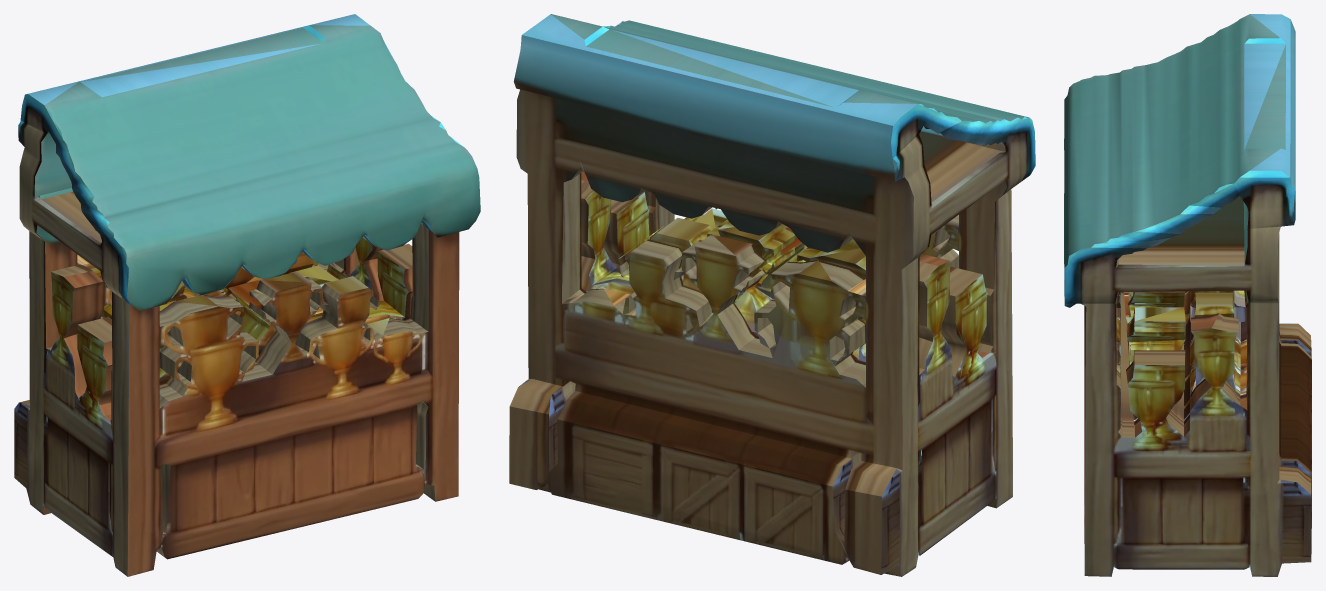
Rendered from town-trophy.glb.
3 renders of one model, left to right at view 1: azimuth 30°, elevation 25°; view 2: azimuth 150°, elevation 25°; view 3: azimuth 270°, elevation 25°, orthographic. The views are drawn at different scales.
Parts seen in each view (by area): view 1: piece; view 2: piece; view 3: piece.
Part boxes in pixels (x1,y1,x2,y2): piece: (14,14,480,576); piece: (509,14,1035,576); piece: (1064,14,1311,576).
Bounding box in the file's own units: 2.52 × 2.8 × 1.55.
Materials: 1 (1 with a texture image).
